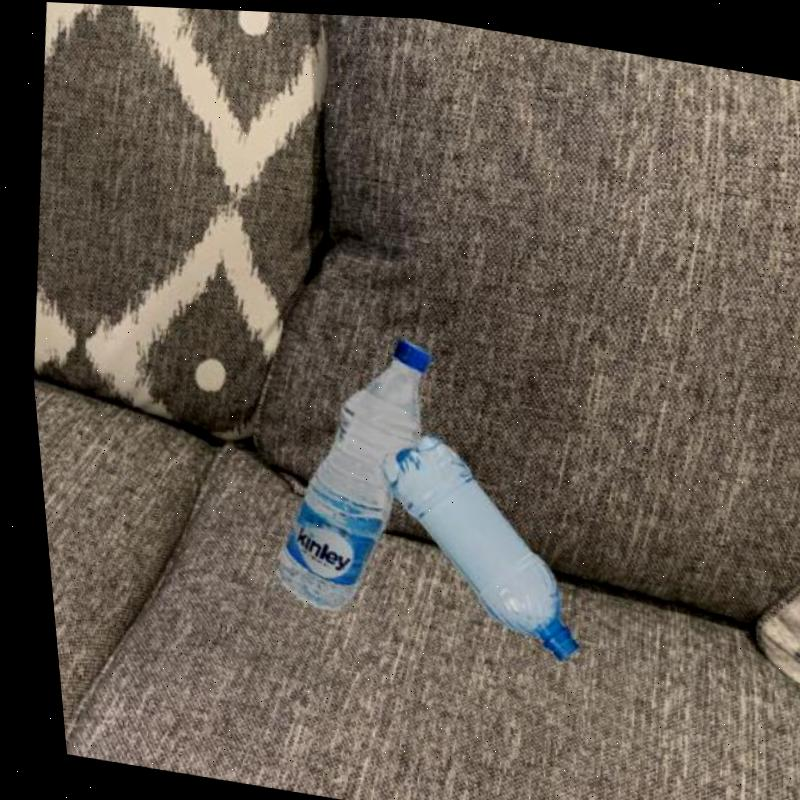botella: (242, 315, 445, 626), (348, 425, 593, 666)
